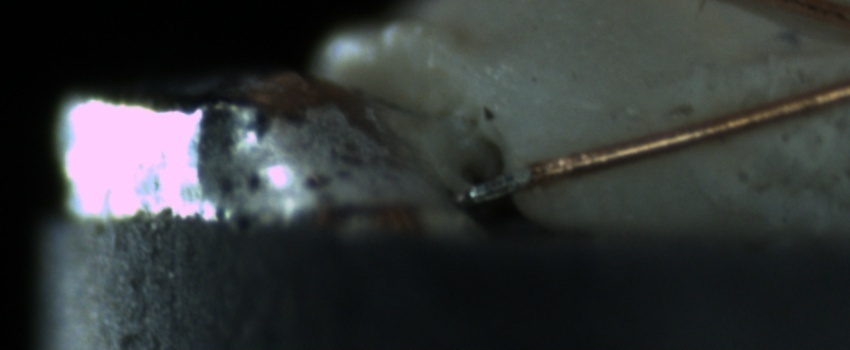TS: (459, 168, 535, 203)
